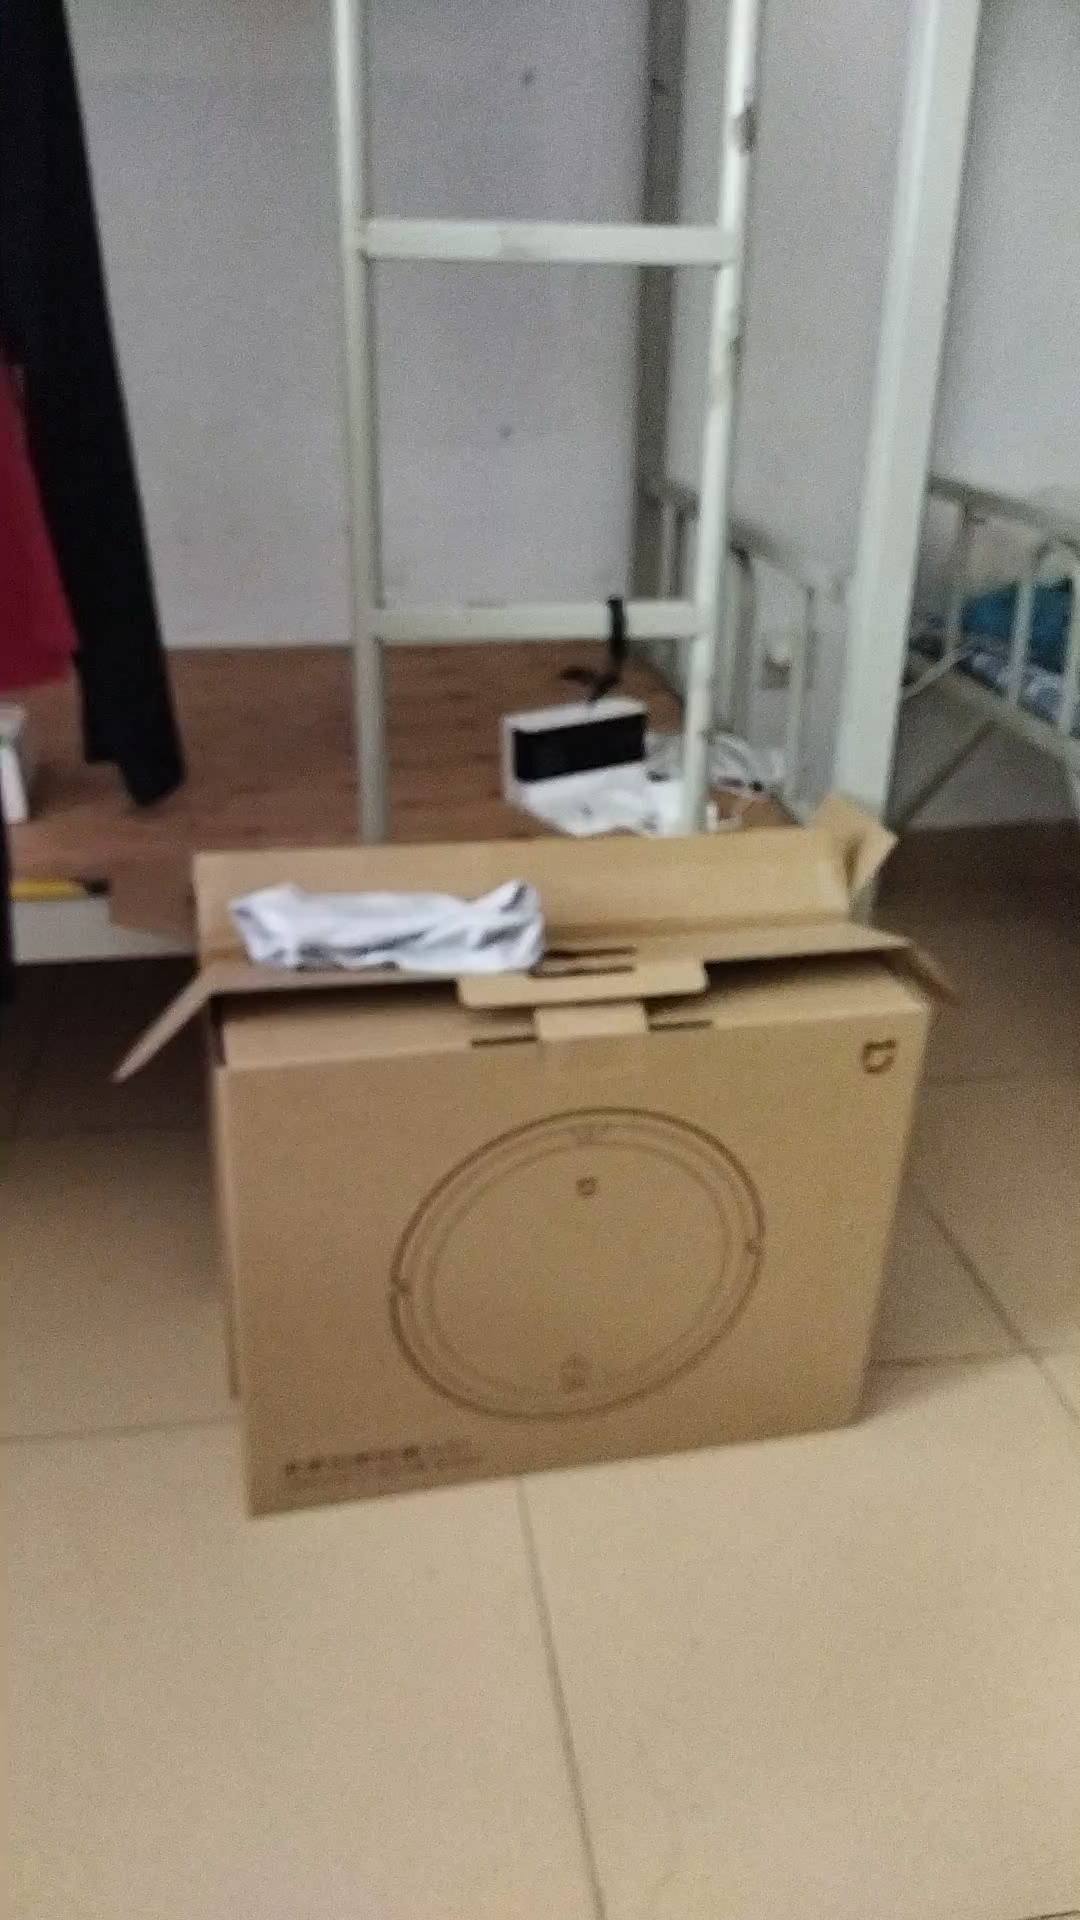recharge seat: (500, 696, 679, 837)
